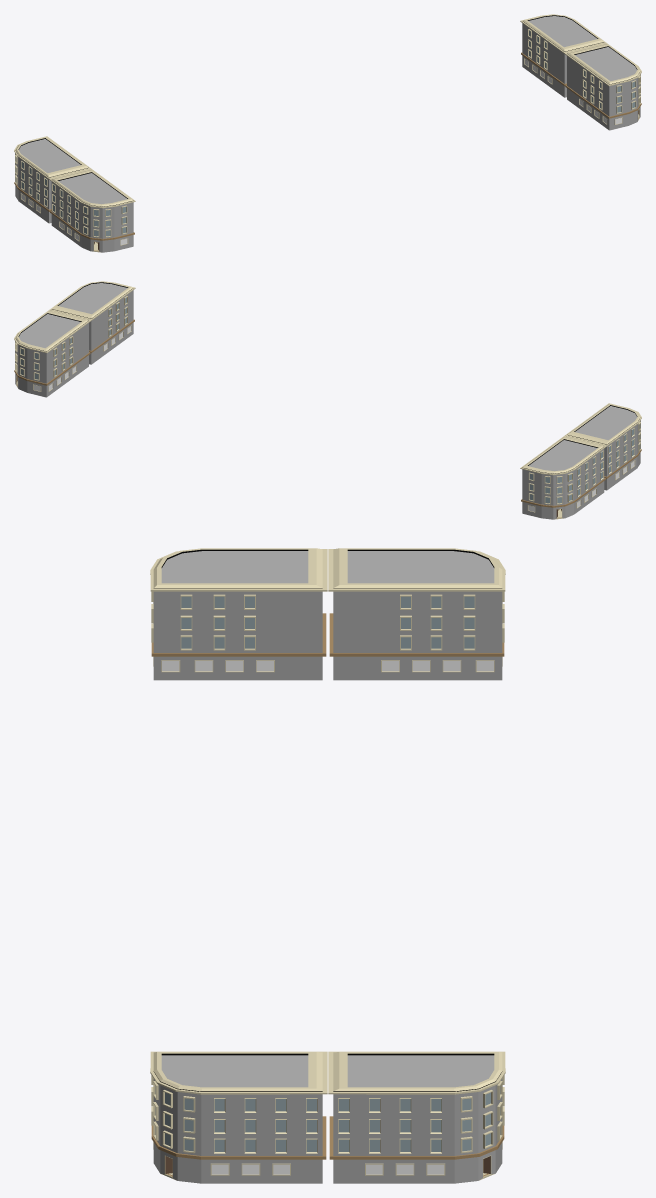
The model's file is Edificios02.fbx.
3 renders of one model, top to bottom at view 1: azimuth 30°, elevation 25°; view 2: azimuth 150°, elevation 25°; view 3: azimuth 270°, elevation 25°, orthographic. The views are drawn at different scales.
Visible parts, largest first — view 1: Cube.049, Cube.043, Cube.037, Cube.031, Cube.045, Cube.039, Cube.027, Cube.033; view 2: Cube.031, Cube.037, Cube.043, Cube.049, Cube.027, Cube.033, Cube.045, Cube.039; view 3: Cube.031, Cube.049, Cube.037, Cube.043, Cube.033, Cube.039, Cube.027, Cube.045, Cube.029, Cube.047.
Boxes of the visible parts, bbox=[...] form: Cube.049: bbox=[49, 168, 135, 252]; Cube.043: bbox=[564, 43, 641, 130]; Cube.037: bbox=[520, 14, 606, 97]; Cube.031: bbox=[14, 136, 90, 223]; Cube.045: bbox=[52, 183, 127, 237]; Cube.039: bbox=[582, 69, 640, 113]; Cube.027: bbox=[15, 153, 47, 207]; Cube.033: bbox=[528, 29, 547, 70]; Cube.031: bbox=[520, 435, 606, 519]; Cube.037: bbox=[14, 310, 91, 397]; Cube.043: bbox=[49, 281, 135, 364]; Cube.049: bbox=[565, 403, 641, 490]; Cube.027: bbox=[528, 450, 603, 504]; Cube.033: bbox=[15, 336, 73, 380]; Cube.045: bbox=[608, 420, 640, 474]; Cube.039: bbox=[108, 296, 127, 337]; Cube.031: bbox=[328, 548, 505, 680]; Cube.049: bbox=[150, 548, 327, 680]; Cube.037: bbox=[328, 1051, 505, 1183]; Cube.043: bbox=[150, 1051, 327, 1183]; Cube.033: bbox=[338, 1075, 504, 1153]; Cube.039: bbox=[151, 1075, 317, 1153]; Cube.027: bbox=[400, 591, 504, 650]; Cube.045: bbox=[151, 591, 255, 650]; Cube.029: bbox=[381, 660, 494, 672]; Cube.047: bbox=[161, 660, 274, 672].
Bounding box in the file's own units: 39109 × 3152 × 10783.
